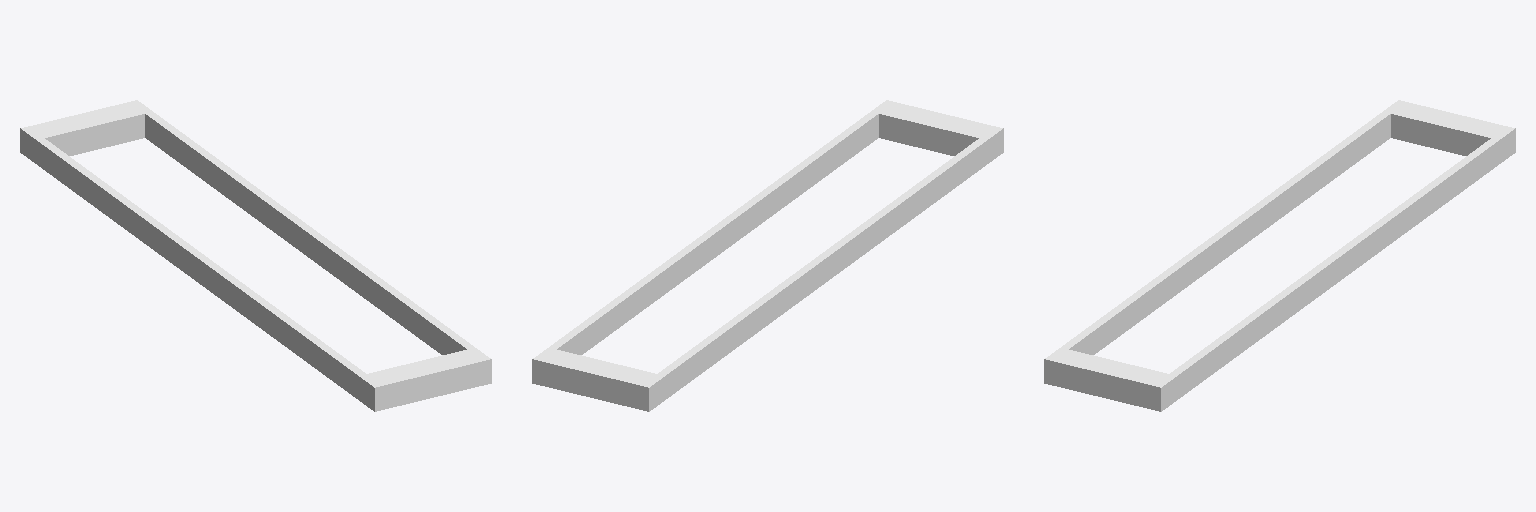
URDF robot description (classification_ball):
<?xml version="1.0"?>
<robot name="classification_ball">
    <link name="ball">
        <visual>
            <geometry>
                <mesh filename="../mesh/TVB_mesh/ball_task_base_square.obj" scale="0.35 1.2 1"/>                                   
            </geometry>
            <material name="white">
                <color rgba="1 1 1 1"/>
            </material>
        </visual>
        <collision>
            <geometry>
                <mesh filename="../mesh/TVB_mesh/ball_task_base_square.obj" scale="0.35 1.2 1"/> 
            </geometry>
            <sdf resolution="256"/>
        </collision>
    </link>
</robot>

--- What the picture shows (computed from the rendered views, not written in the file) ---
Views: 3 orthographic renders of the robot side by side, from view 1: azimuth 30°, elevation 25°; view 2: azimuth 150°, elevation 25°; view 3: azimuth 330°, elevation 25°.
Model classification_ball with 1 links and 0 joints (none), rooted at ball, posed every joint at zero.
Links seen in each view (by area): view 1: ball; view 2: ball; view 3: ball.
Link boxes in pixels (x1=…): ball: x1=20, y1=100, x2=491, y2=411; ball: x1=532, y1=100, x2=1003, y2=411; ball: x1=1044, y1=100, x2=1515, y2=411.
Size in the robot's own frame: 0.0503 by 0.264 by 0.01 metres.
1 mesh visuals loaded from 1 distinct referenced files (1 OBJ).
